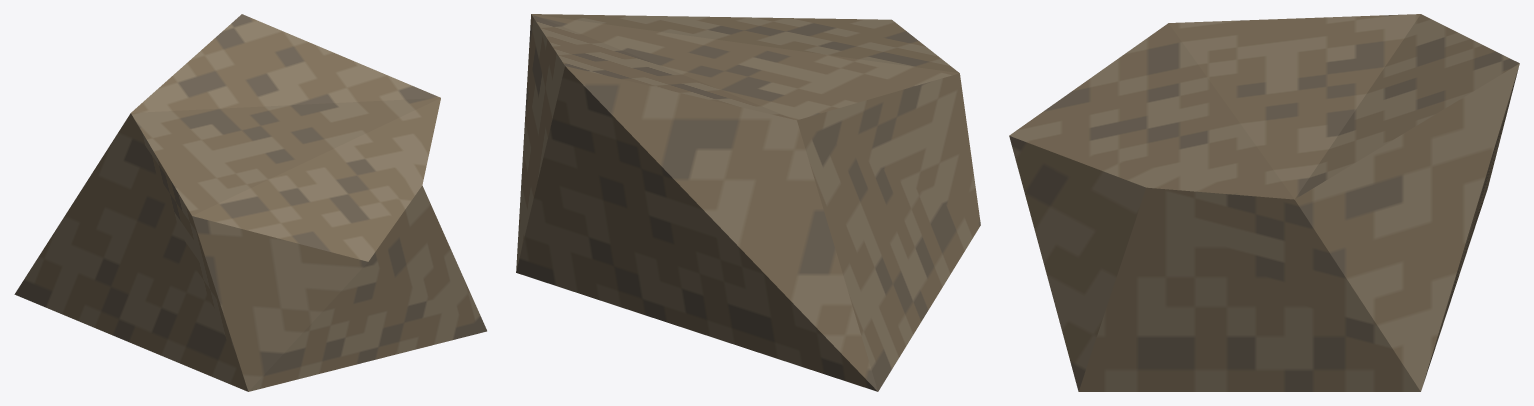
File: Piedrecita3.fbx
3 views of the same model, side by side, from view 1: azimuth 30°, elevation 25°; view 2: azimuth 150°, elevation 25°; view 3: azimuth 270°, elevation 25° (orthographic). The views are drawn at different scales.
Visible parts, largest first — view 1: PIEDRECITA3; view 2: PIEDRECITA3; view 3: PIEDRECITA3.
Part boxes in pixels (<box>): PIEDRECITA3: <box>14,14,486,391</box>; PIEDRECITA3: <box>516,14,980,391</box>; PIEDRECITA3: <box>1009,14,1519,391</box>.
Bounding box in the file's own units: 84.01 × 48.42 × 80.28.
